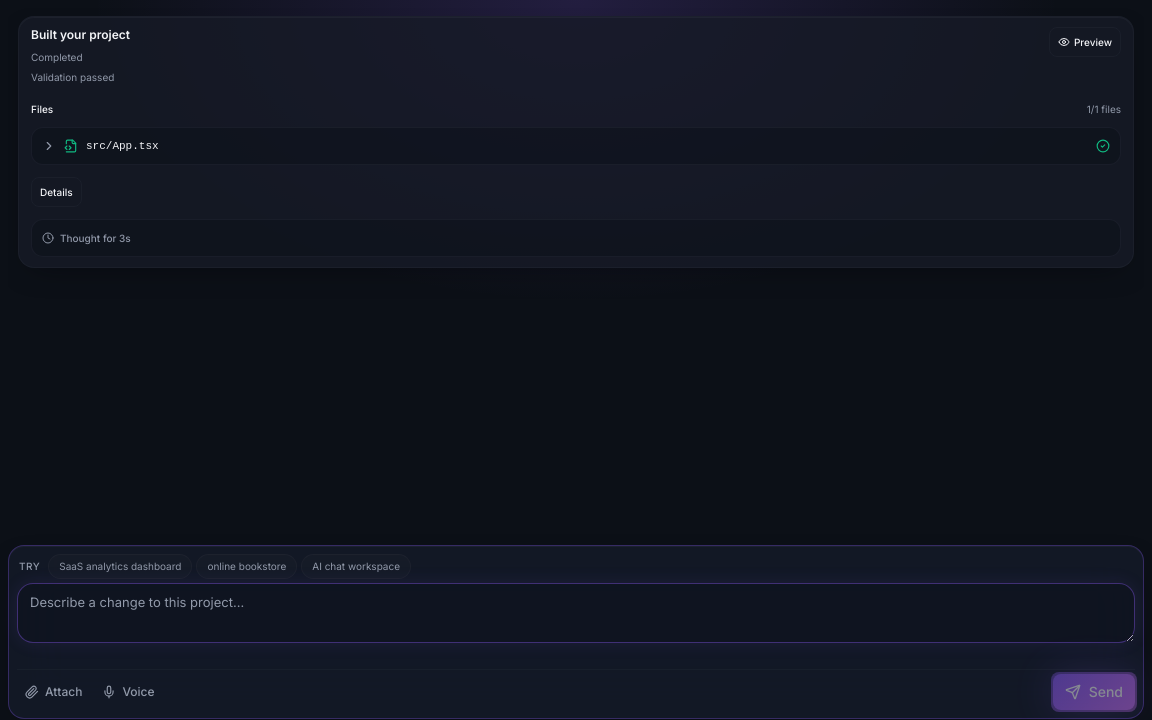
Scenario: activity details and preview › expands details and requests the activity preview
Later steps or results of the test are not shown.
Expected: the heading "Built your project" is shown, [31,27,130,43]
Click the button "Details" at (56, 192), box [31,177,82,207]
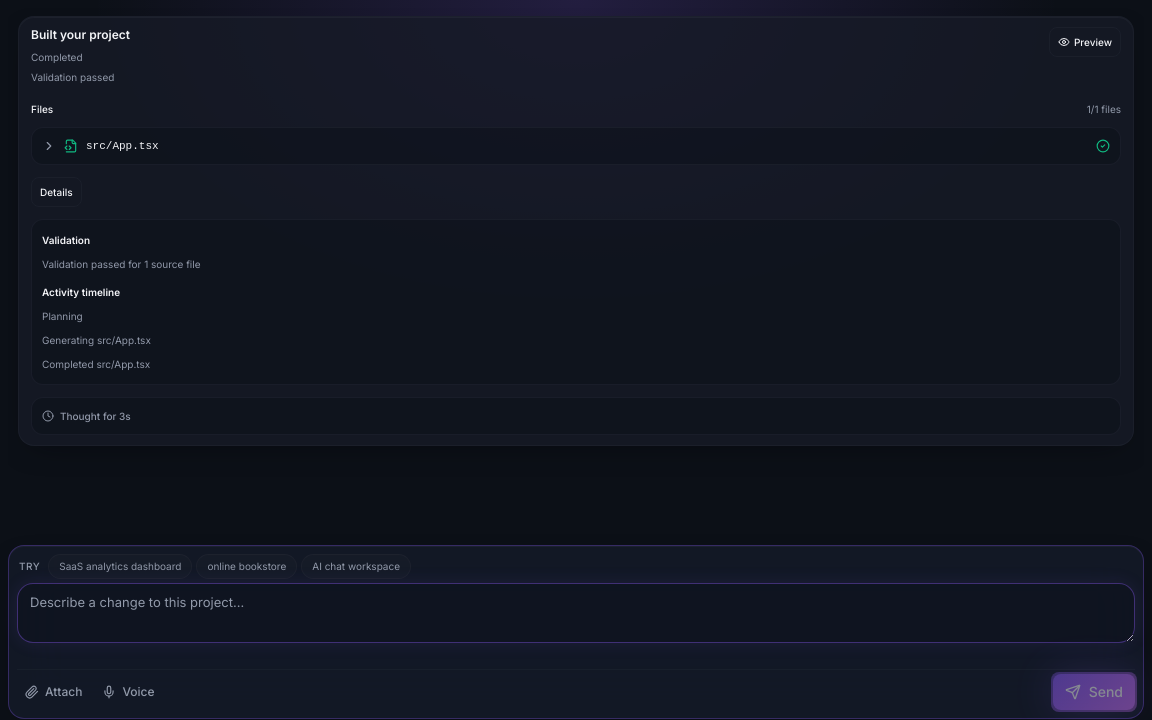
Expected: the text "Validation passed for 1 source file" is shown, [42,258,200,270]
